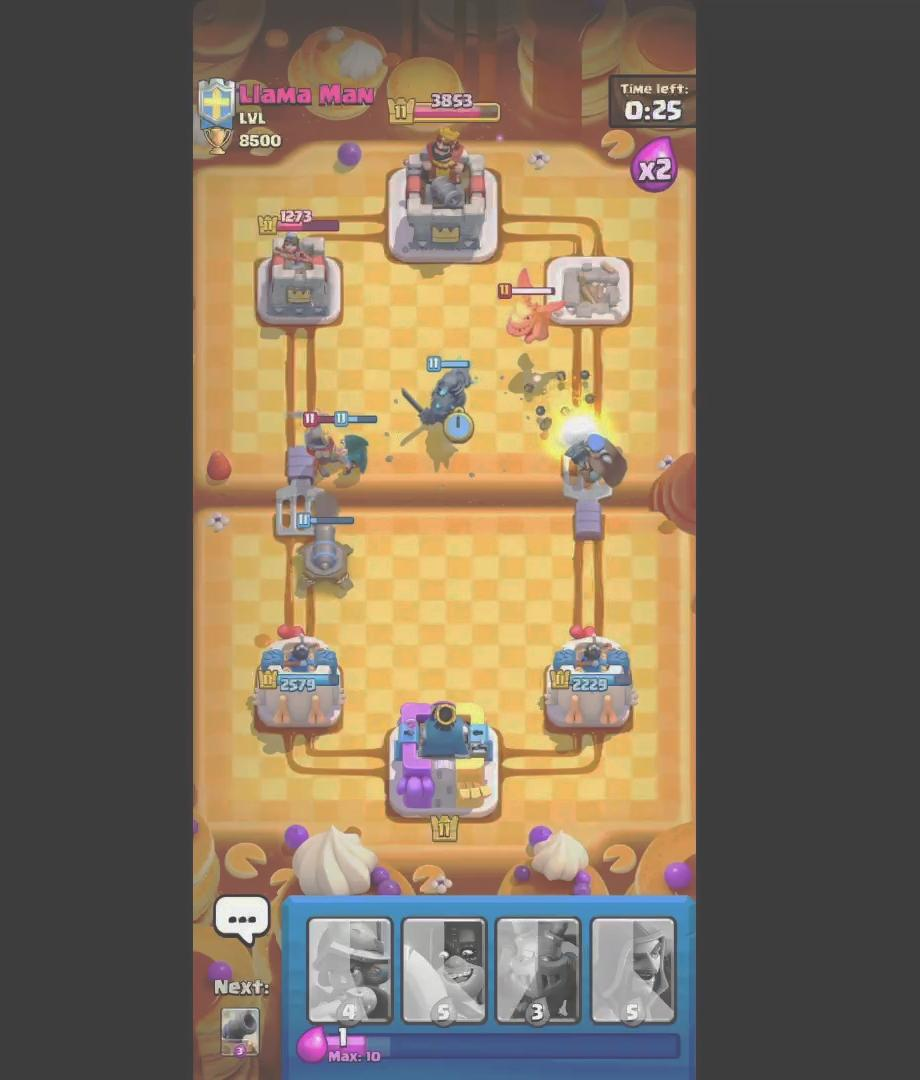Baby Dragon: (491, 263, 564, 353)
Knight: (290, 409, 348, 473)
